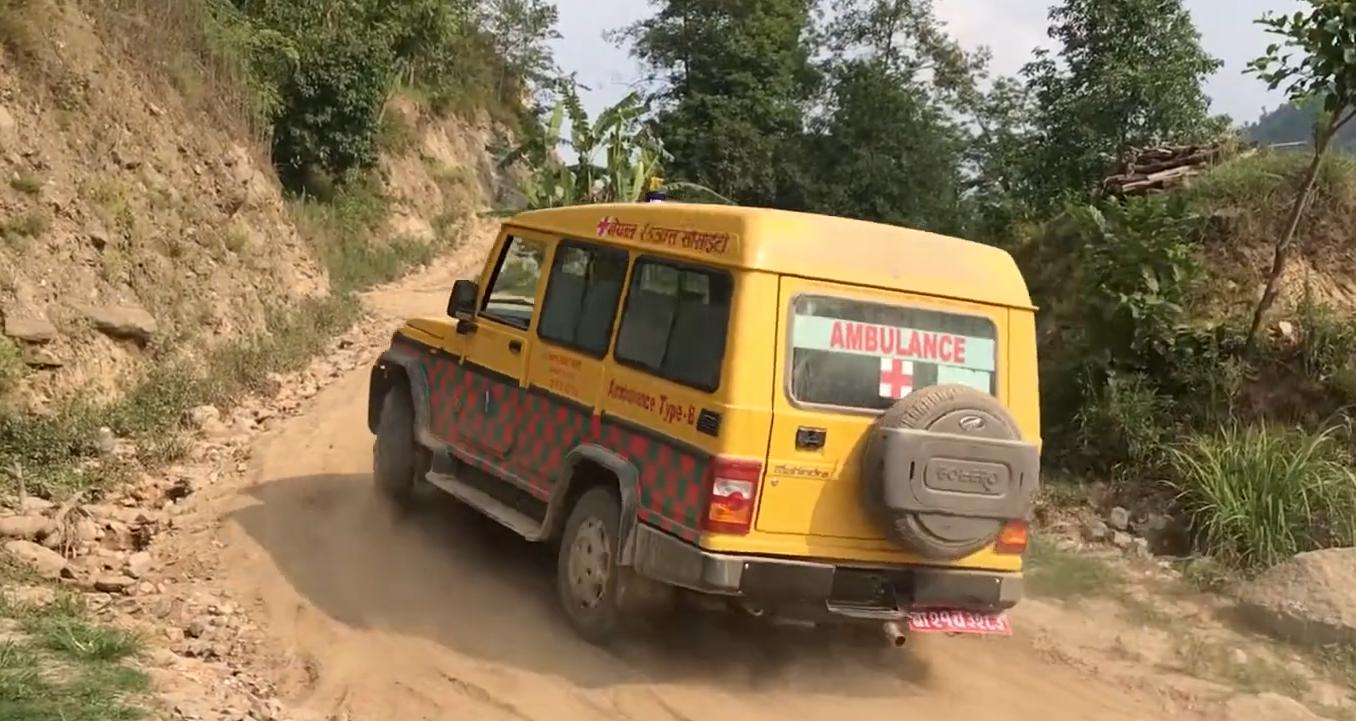ambulance: (349, 186, 1062, 672)
